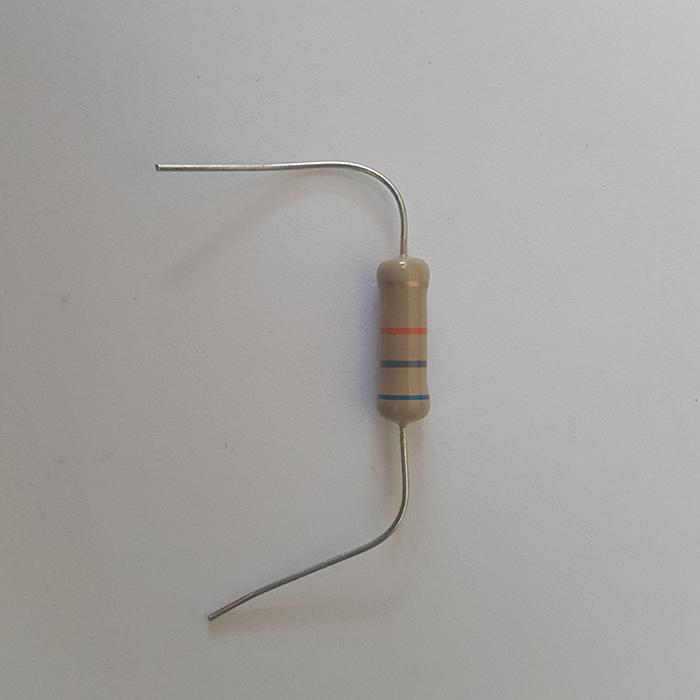resistor: (376, 253, 431, 427)
